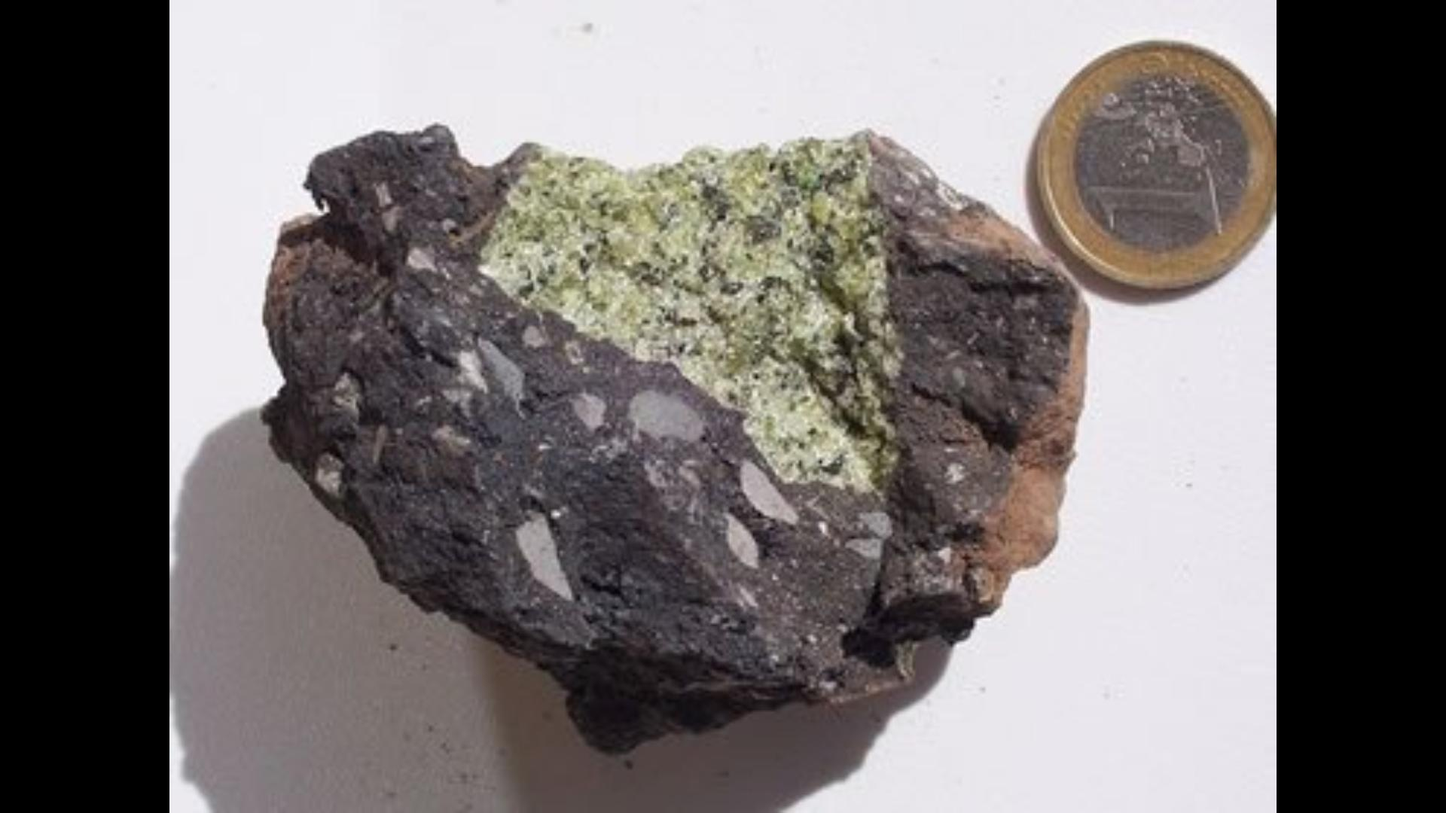rock: (266, 128, 1082, 749)
